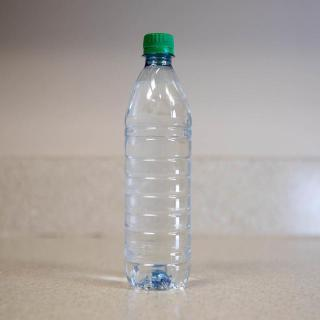Anorganik: (122, 25, 198, 297)
